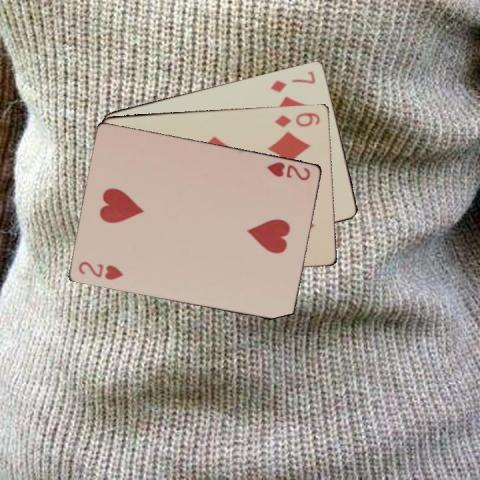2h: (76, 258, 126, 281), (264, 159, 312, 182)
6d: (272, 109, 321, 128)
7d: (267, 68, 317, 93)
